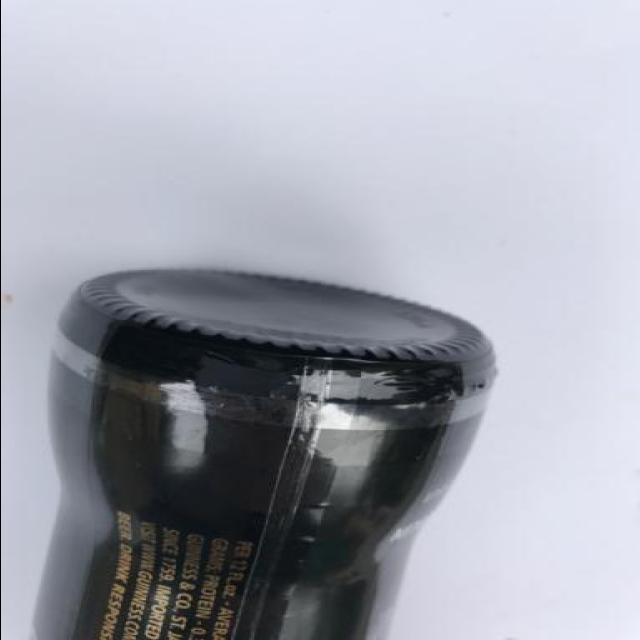litter: (43, 268, 500, 638)
